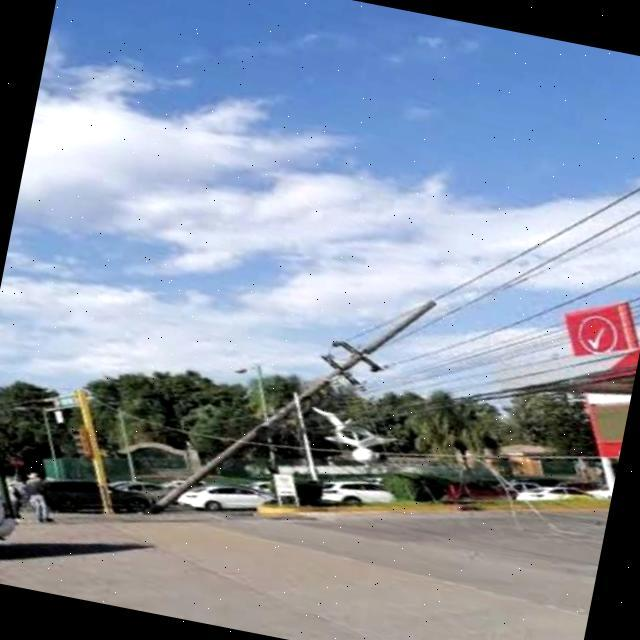Broken Pole: (140, 296, 444, 515)
